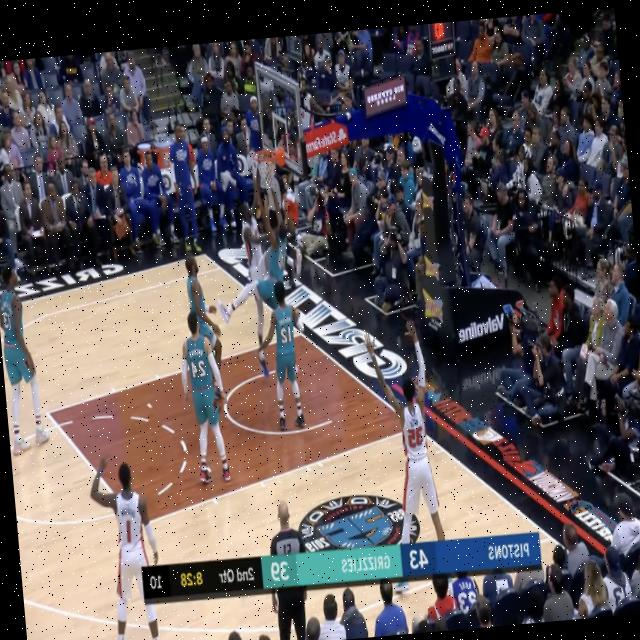foul: (215, 179, 306, 384)
no foul: (164, 244, 237, 483), (261, 286, 322, 436)
